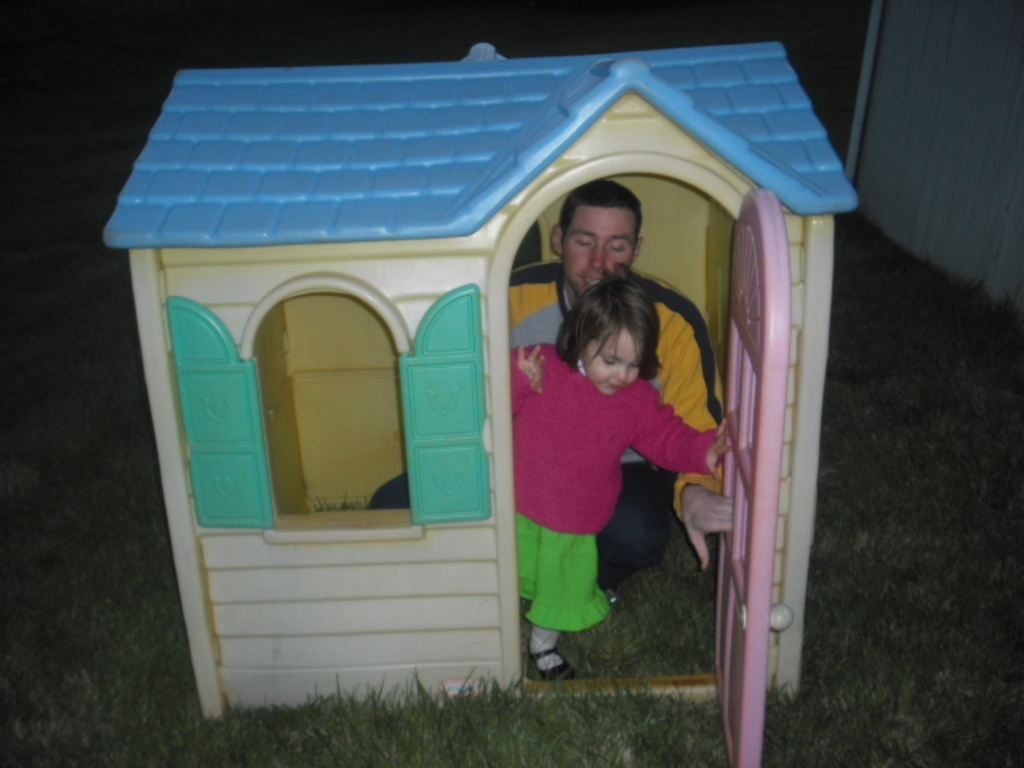face: (584, 328, 646, 395)
